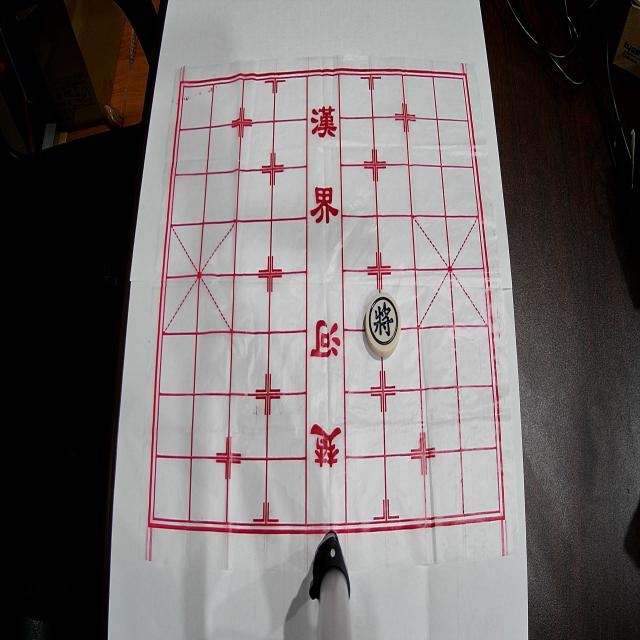black-general: (366, 293, 402, 357)
